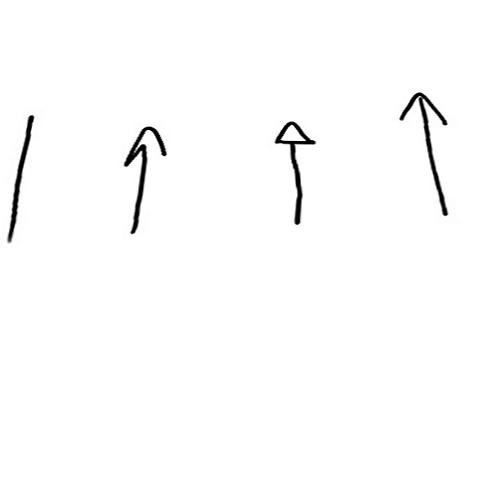arrow: (397, 95, 451, 215), (121, 126, 167, 234), (275, 118, 317, 228)
arrownohead: (4, 113, 37, 241)
